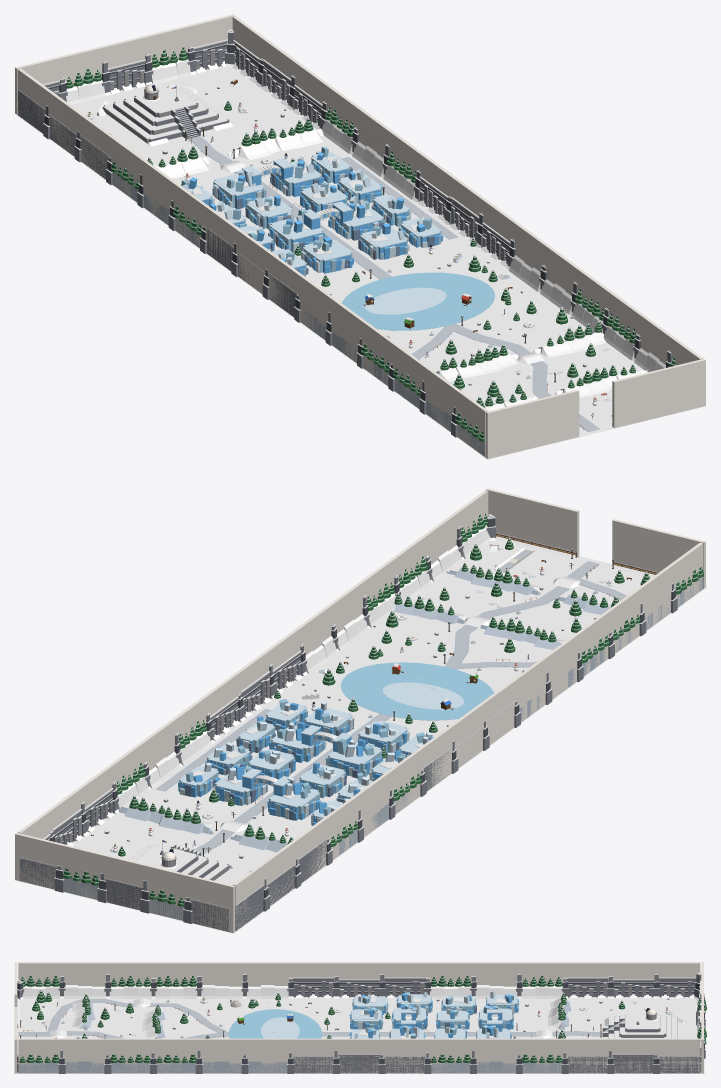
The model's file is CatCafe_Snowy_Set.glb.
3 views of the same model, one above another, from view 1: azimuth 30°, elevation 25°; view 2: azimuth 150°, elevation 25°; view 3: azimuth 270°, elevation 25° (orthographic). The views are drawn at different scales.
Visible parts, largest first — view 1: CatCafe_Snowy_Set_133_Walls_Barrier, CatCafe_Snowy_Set, CatCafe_Snowy_Set_183_Cave, CatCafe_Snowy_Set_246_Summit, CatCafe_Snowy_Set_164_Ridge, CatCafe_Snowy_Set_149_Ridge, CatCafe_Snowy_Set_008_WallCliff, CatCafe_Snowy_Set_134_Ridge, CatCafe_Snowy_Set_000_WallCliff, CatCafe_Snowy_Set_122_WallCliff, CatCafe_Snowy_Set_100_WallCliff, CatCafe_Snowy_Set_098_WallCliff (+6 smaller); view 2: CatCafe_Snowy_Set_133_Walls_Barrier, CatCafe_Snowy_Set, CatCafe_Snowy_Set_183_Cave, CatCafe_Snowy_Set_246_Summit, CatCafe_Snowy_Set_164_Ridge, CatCafe_Snowy_Set_149_Ridge, CatCafe_Snowy_Set_134_Ridge, CatCafe_Snowy_Set_016_WallCliff, CatCafe_Snowy_Set_000_WallCliff, CatCafe_Snowy_Set_008_WallCliff, CatCafe_Snowy_Set_100_WallCliff, CatCafe_Snowy_Set_070_WallCliff (+5 smaller); view 3: CatCafe_Snowy_Set_133_Walls_Barrier, CatCafe_Snowy_Set, CatCafe_Snowy_Set_183_Cave, CatCafe_Snowy_Set_246_Summit, CatCafe_Snowy_Set_066_WallCliff, CatCafe_Snowy_Set_044_WallCliff, CatCafe_Snowy_Set_100_WallCliff, CatCafe_Snowy_Set_122_WallCliff, CatCafe_Snowy_Set_070_WallCliff, CatCafe_Snowy_Set_068_WallCliff, CatCafe_Snowy_Set_124_WallCliff, CatCafe_Snowy_Set_048_WallCliff (+26 smaller).
Boxes of the visible parts, box(x1,y1,x2,y2) form: CatCafe_Snowy_Set_133_Walls_Barrier: box(15, 14, 705, 458); CatCafe_Snowy_Set: box(14, 66, 706, 459); CatCafe_Snowy_Set_183_Cave: box(181, 147, 443, 276); CatCafe_Snowy_Set_246_Summit: box(96, 85, 233, 146); CatCafe_Snowy_Set_164_Ridge: box(154, 128, 323, 178); CatCafe_Snowy_Set_149_Ridge: box(436, 332, 606, 381); CatCafe_Snowy_Set_008_WallCliff: box(107, 59, 145, 94); CatCafe_Snowy_Set_134_Ridge: box(484, 370, 647, 411); CatCafe_Snowy_Set_000_WallCliff: box(193, 39, 227, 73); CatCafe_Snowy_Set_122_WallCliff: box(261, 59, 291, 105); CatCafe_Snowy_Set_100_WallCliff: box(449, 197, 479, 242); CatCafe_Snowy_Set_098_WallCliff: box(481, 222, 510, 266); CatCafe_Snowy_Set_133_Walls_Barrier: box(15, 488, 705, 932); CatCafe_Snowy_Set: box(14, 540, 706, 933); CatCafe_Snowy_Set_183_Cave: box(178, 699, 434, 825); CatCafe_Snowy_Set_246_Summit: box(128, 844, 233, 880); CatCafe_Snowy_Set_164_Ridge: box(118, 806, 287, 852); CatCafe_Snowy_Set_149_Ridge: box(394, 603, 566, 649); CatCafe_Snowy_Set_134_Ridge: box(446, 568, 611, 614); CatCafe_Snowy_Set_016_WallCliff: box(190, 899, 228, 931); CatCafe_Snowy_Set_000_WallCliff: box(19, 857, 57, 889); CatCafe_Snowy_Set_008_WallCliff: box(105, 878, 143, 910); CatCafe_Snowy_Set_100_WallCliff: box(240, 671, 271, 717); CatCafe_Snowy_Set_070_WallCliff: box(235, 884, 264, 930); CatCafe_Snowy_Set_133_Walls_Barrier: box(14, 962, 703, 1073); CatCafe_Snowy_Set: box(14, 995, 704, 1073); CatCafe_Snowy_Set_183_Cave: box(349, 991, 518, 1038); CatCafe_Snowy_Set_246_Summit: box(602, 1014, 685, 1038); CatCafe_Snowy_Set_066_WallCliff: box(567, 977, 608, 998); CatCafe_Snowy_Set_044_WallCliff: box(292, 977, 334, 998); CatCafe_Snowy_Set_100_WallCliff: box(338, 1054, 380, 1073); CatCafe_Snowy_Set_122_WallCliff: box(612, 1054, 654, 1073); CatCafe_Snowy_Set_070_WallCliff: box(658, 977, 696, 998); CatCafe_Snowy_Set_068_WallCliff: box(613, 979, 654, 998); CatCafe_Snowy_Set_124_WallCliff: box(658, 1055, 700, 1073); CatCafe_Snowy_Set_048_WallCliff: box(384, 977, 425, 998).
Size of the model in its own units: 154 by 30.63 by 562.
Materials: 1 (1 with a texture image).
